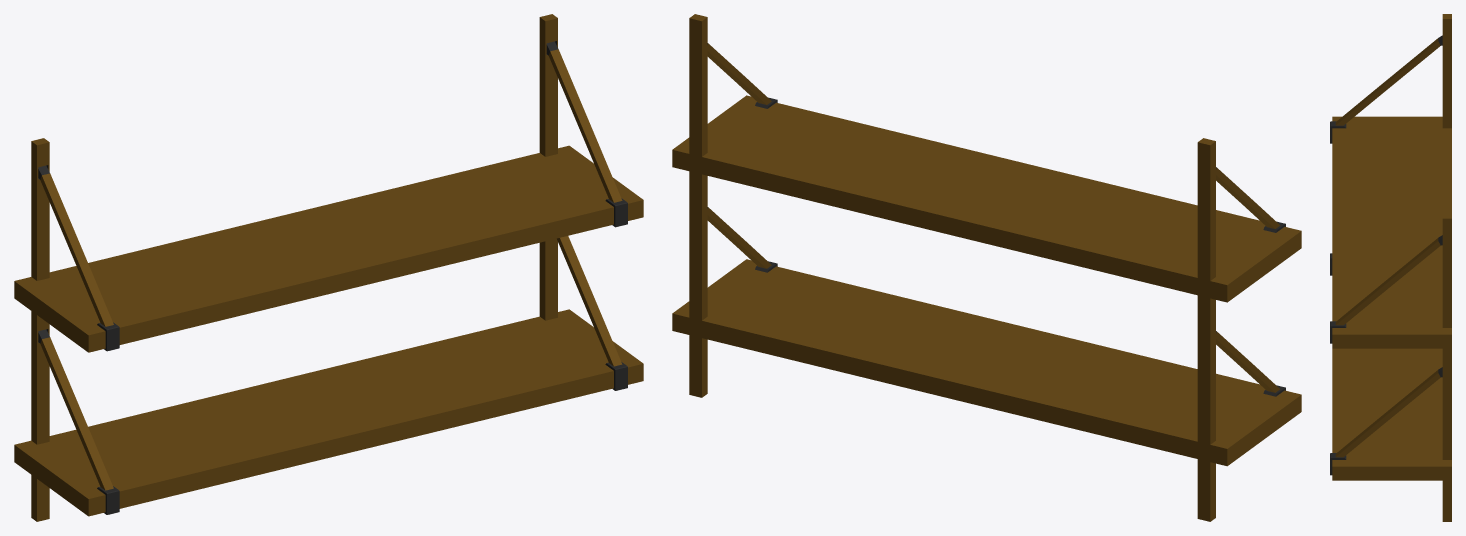
File: BookShelf_2.fbx
3 renders of one model, left to right at view 1: azimuth 30°, elevation 25°; view 2: azimuth 150°, elevation 25°; view 3: azimuth 270°, elevation 25°, orthographic. The views are drawn at different scales.
Parts seen in each view (by area): view 1: BookShelf2; view 2: BookShelf2; view 3: BookShelf2.
Boxes of the visible parts, x1,y1,x2,y2 form: BookShelf2: (14,14,643,521); BookShelf2: (672,14,1301,521); BookShelf2: (1330,14,1451,521).
Size of the model in its own units: 326 by 211 by 76.88.
